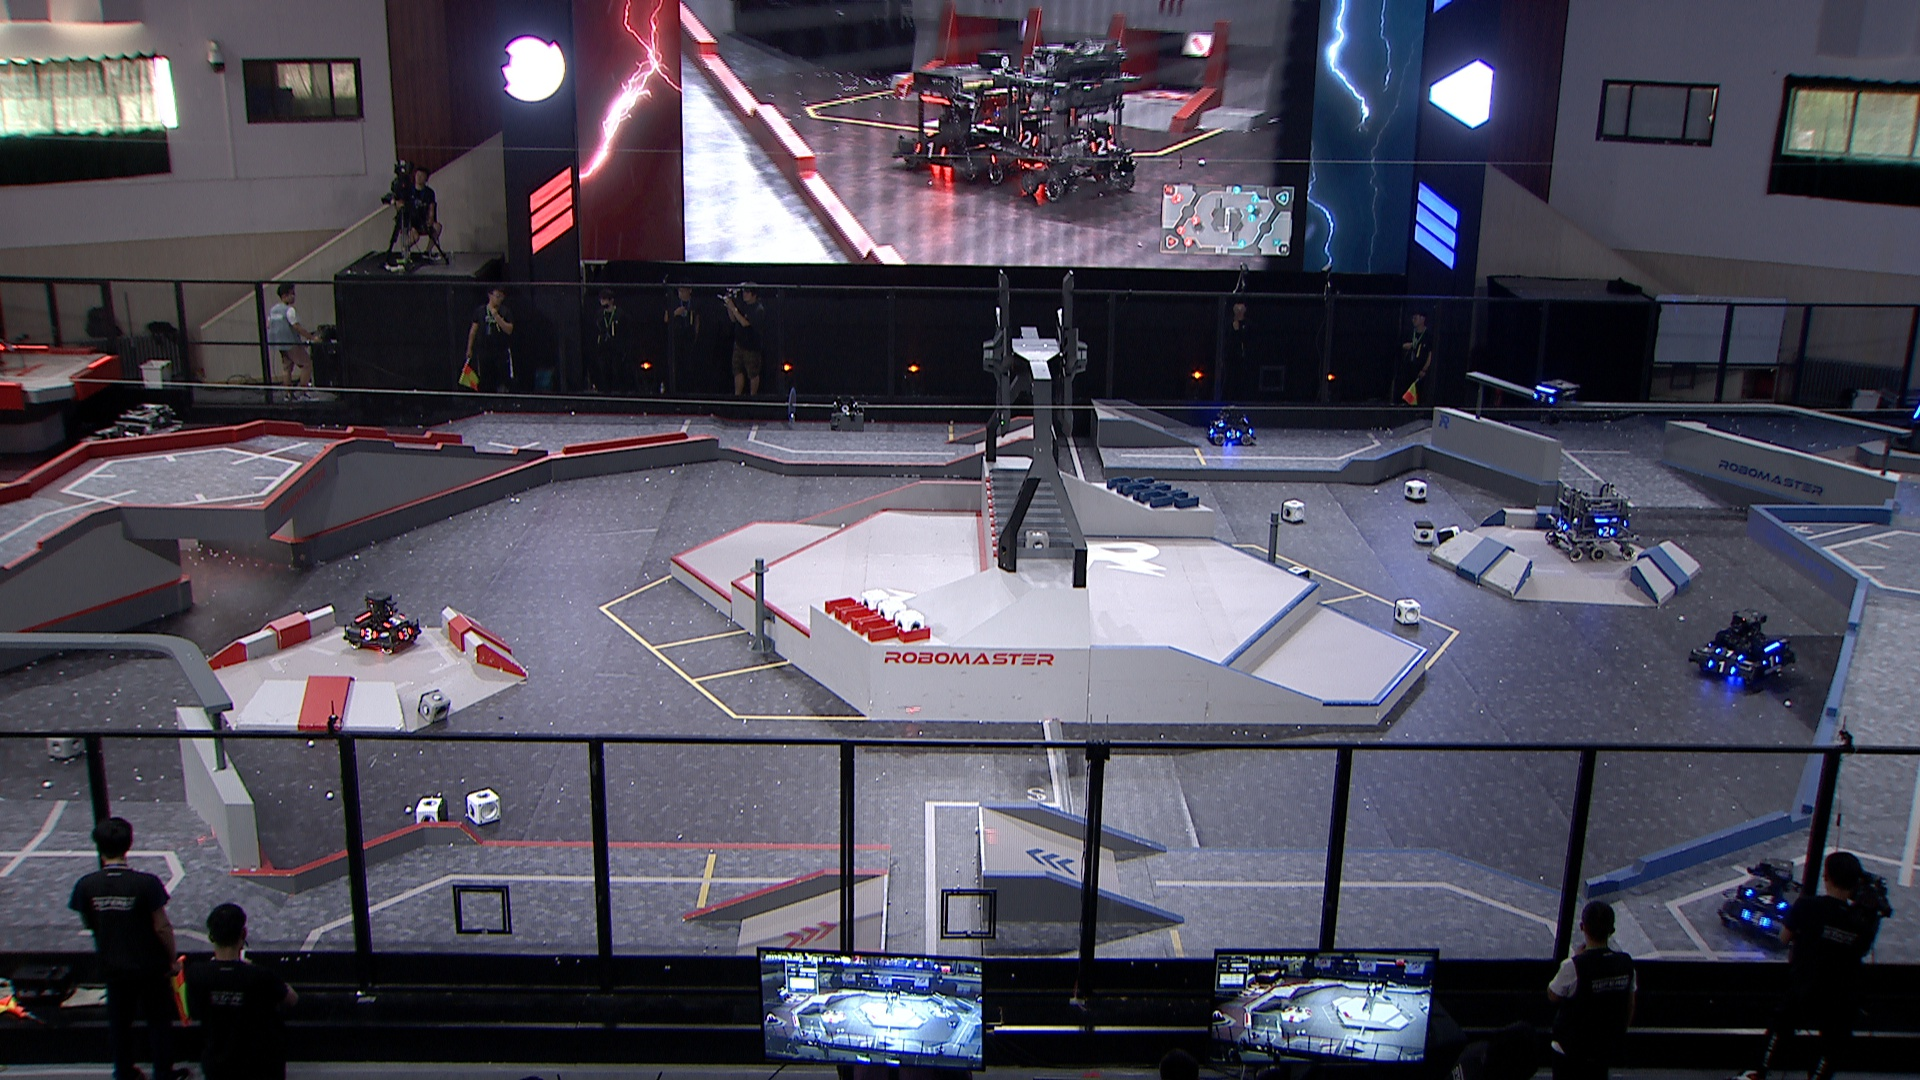armor: (1745, 887, 1789, 913), (1737, 905, 1774, 927), (1714, 645, 1746, 661), (1708, 659, 1737, 676), (357, 624, 377, 642), (381, 613, 406, 626), (396, 624, 415, 640), (1532, 390, 1555, 404), (1762, 654, 1780, 669), (1598, 524, 1615, 538), (1224, 429, 1244, 439), (1556, 520, 1571, 531), (1215, 417, 1226, 429)
car: (1687, 605, 1793, 694), (1717, 856, 1818, 944), (1543, 476, 1636, 564), (102, 400, 190, 476), (340, 589, 422, 657), (1204, 400, 1257, 446)
ignore: (975, 33, 1145, 204), (894, 46, 1021, 191)
watcher: (1528, 376, 1581, 429)
